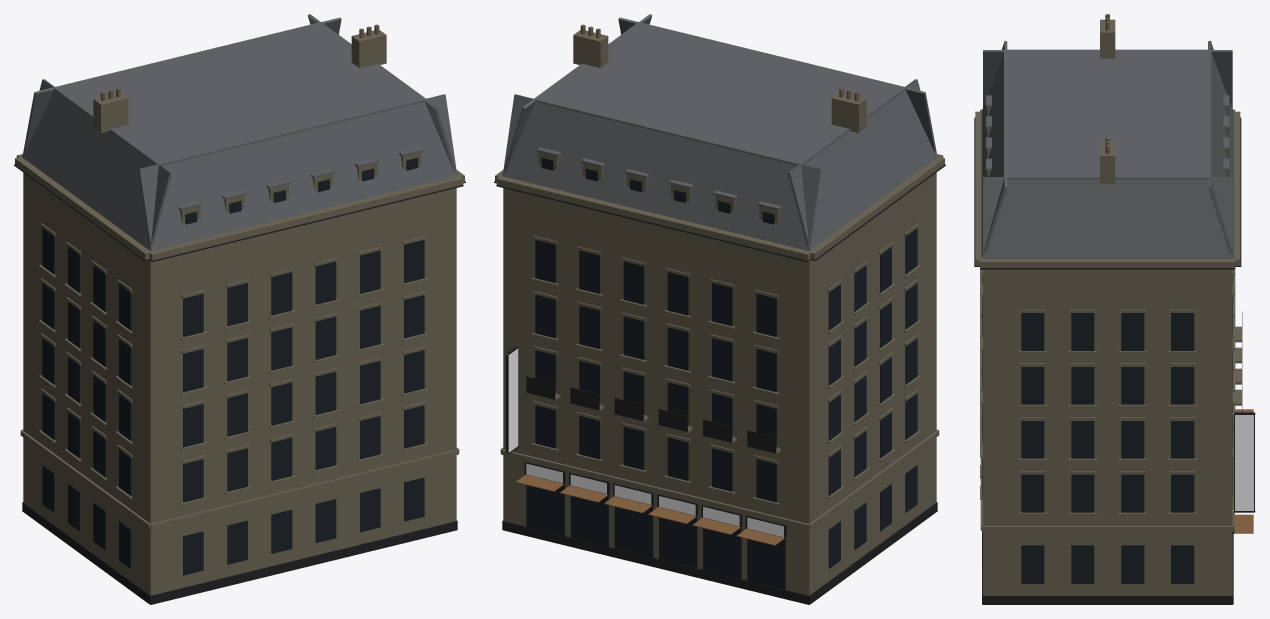
Rendered from B_HAUSSMANN.glb.
3 views of the same model, side by side, from view 1: azimuth 30°, elevation 25°; view 2: azimuth 150°, elevation 25°; view 3: azimuth 270°, elevation 25° (orthographic). The views are drawn at different scales.
Parts seen in each view (by area): view 1: concreteProp_0, roofMetal_6, glass_2, tread_1; view 2: concreteProp_0, roofMetal_6, glass_2, tread_1, citySign_3, wood_4; view 3: concreteProp_0, roofMetal_6, glass_2, tread_1, citySign_3, wood_4.
Part boxes in pixels (box(x1,y1,x2,y2)): concreteProp_0: box(15, 30, 464, 595); roofMetal_6: box(22, 14, 457, 250); glass_2: box(42, 157, 424, 575); tread_1: box(14, 164, 465, 604); concreteProp_0: box(495, 30, 944, 595); roofMetal_6: box(502, 14, 937, 250); glass_2: box(526, 157, 917, 589); tread_1: box(494, 164, 945, 604); citySign_3: box(508, 348, 783, 537); wood_4: box(515, 474, 784, 545); concreteProp_0: box(975, 19, 1241, 595); roofMetal_6: box(981, 40, 1233, 258); glass_2: box(982, 107, 1232, 584); tread_1: box(974, 117, 1254, 604); citySign_3: box(1235, 415, 1253, 510); wood_4: box(1234, 409, 1253, 533).
Size of the model in its own units: 18.9 by 25.95 by 14.65.
